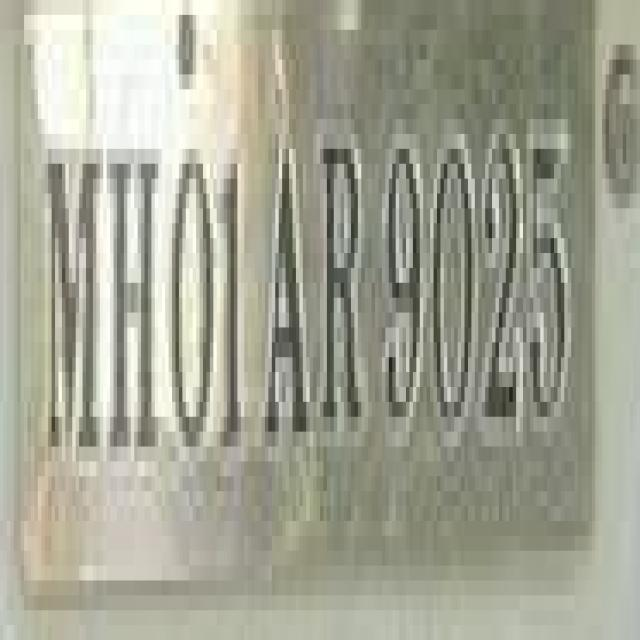license_plate: (0, 29, 612, 595)
